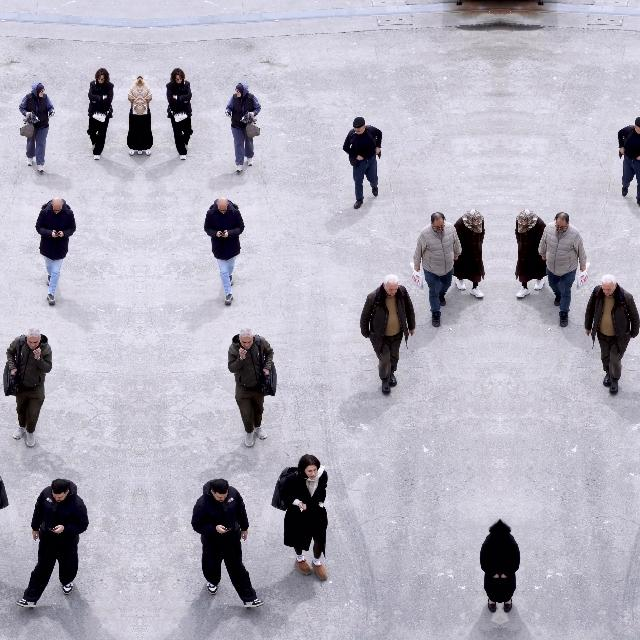person: (191, 479, 263, 609), (17, 479, 89, 609), (272, 454, 328, 580), (359, 274, 416, 396), (583, 274, 640, 395), (4, 328, 54, 448), (227, 328, 276, 448), (412, 212, 462, 328), (538, 212, 588, 328), (203, 197, 245, 305), (35, 197, 77, 305), (342, 116, 382, 210), (225, 83, 261, 173), (19, 83, 55, 173), (452, 209, 486, 299), (514, 209, 548, 299), (166, 68, 194, 160), (86, 68, 114, 160), (618, 116, 640, 209), (480, 518, 500, 612), (500, 518, 520, 612), (140, 75, 154, 157), (126, 75, 140, 157), (0, 453, 8, 580)
